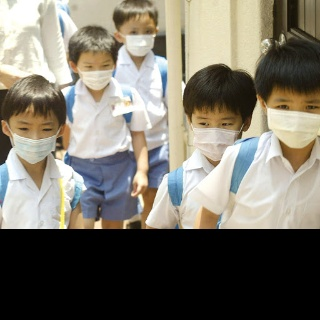with_mask: (265, 95, 320, 151), (191, 112, 242, 162), (10, 119, 57, 165), (77, 57, 114, 91), (122, 24, 155, 58)
